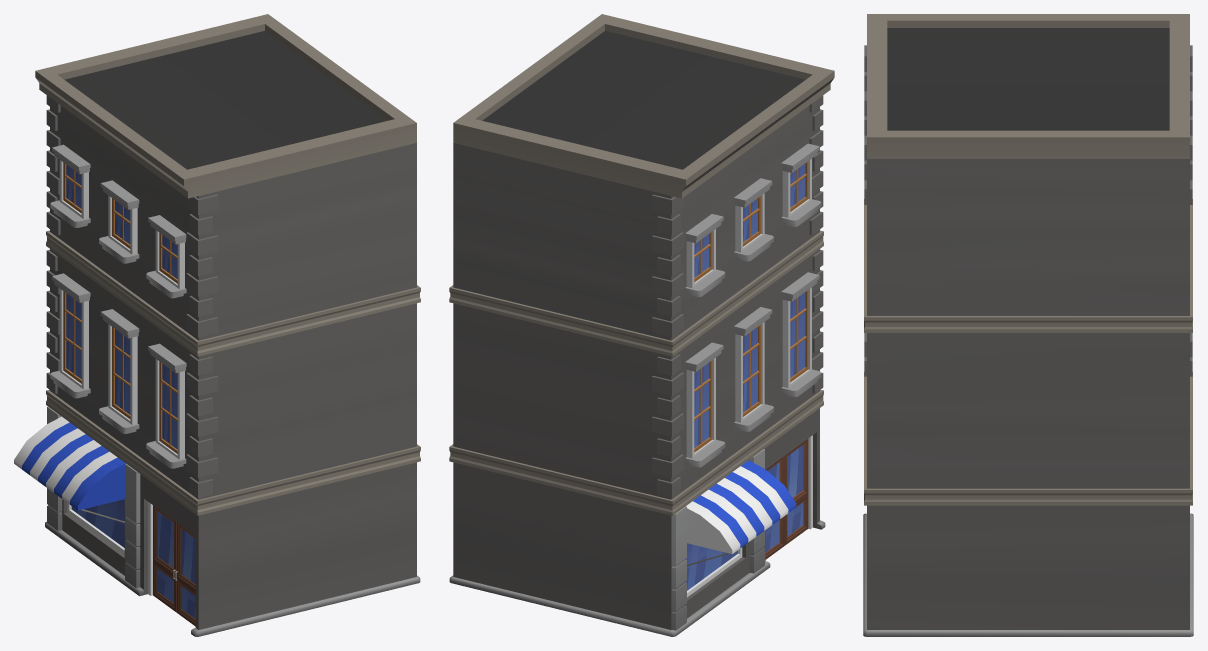
File: Building_8_1_G.glb
The picture shows the model from 3 angles, left to right: view 1: azimuth 30°, elevation 25°; view 2: azimuth 150°, elevation 25°; view 3: azimuth 270°, elevation 25°; orthographic projection. The views are drawn at different scales.
Parts seen in each view (by area): view 1: Building 8_1_G; view 2: Building 8_1_G; view 3: Building 8_1_G.
Part boxes in pixels (x1,y1,x2,y2): Building 8_1_G: [14, 14, 420, 636]; Building 8_1_G: [449, 14, 834, 636]; Building 8_1_G: [863, 14, 1193, 636].
Bounding box in the file's own units: 6.81 × 11.08 × 6.67.
Materials: 3 (3 with a texture image).
